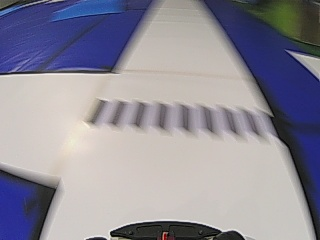CrossWalk: (78, 91, 285, 148)
